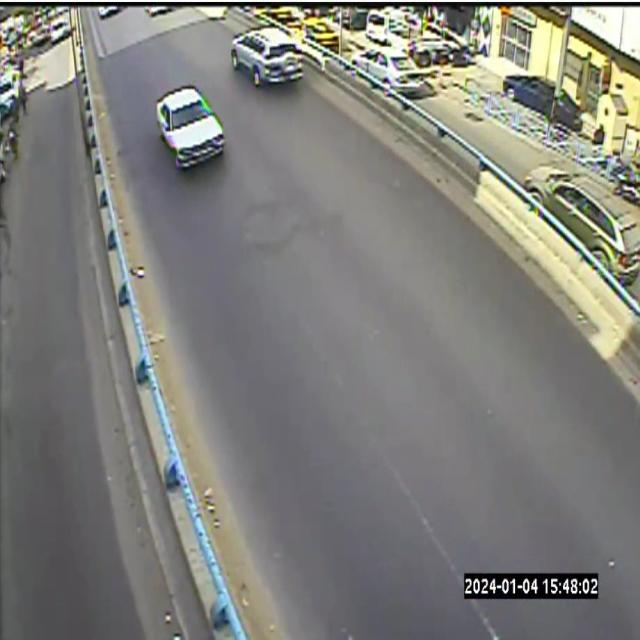car: (524, 165, 639, 285), (464, 80, 600, 157)
